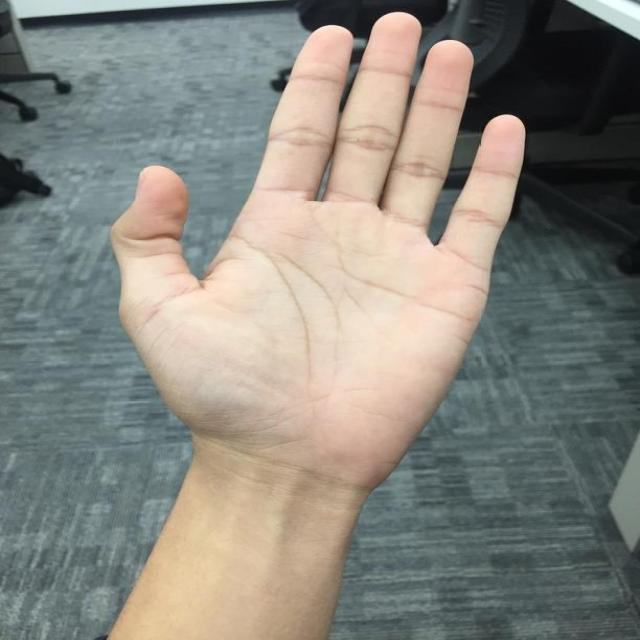hand: (110, 7, 528, 507)
